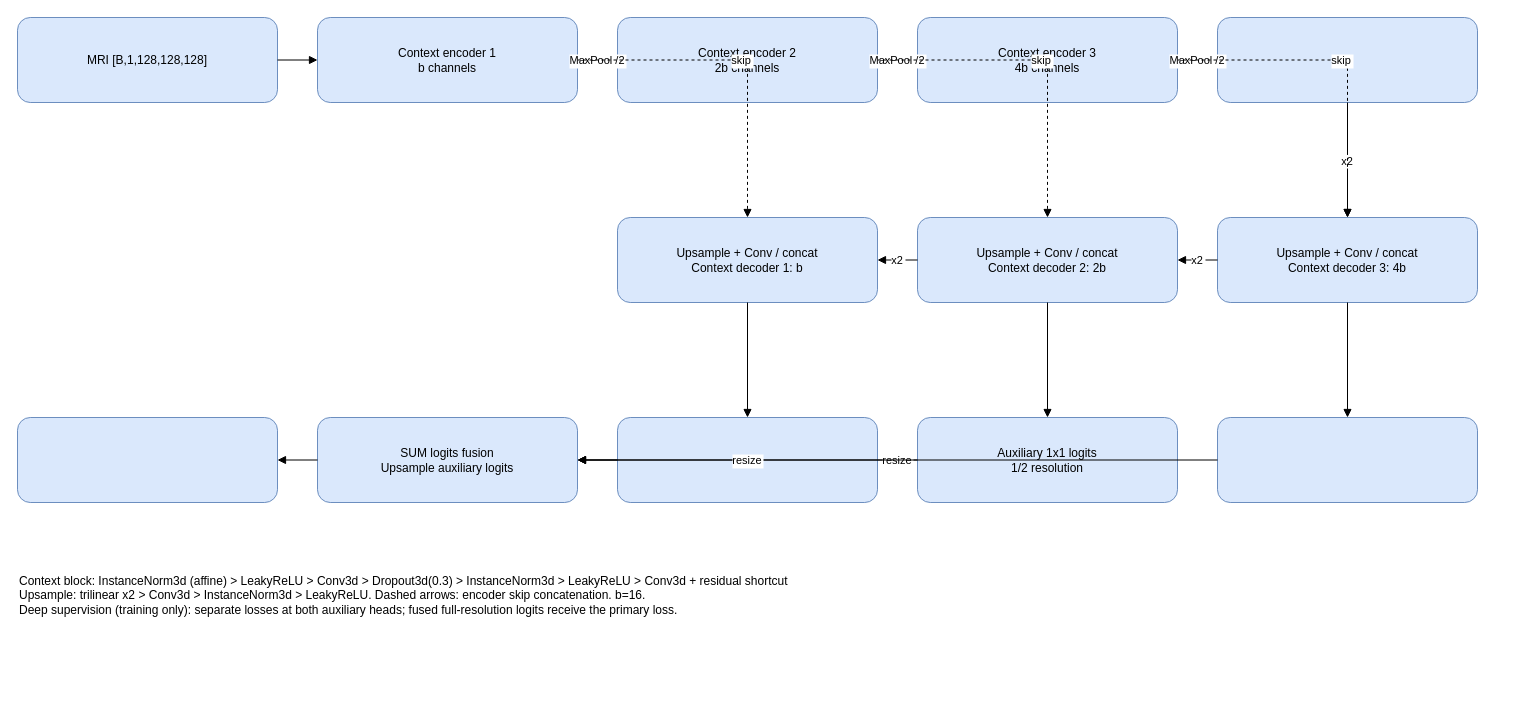
Image size: 1535x705. Some labels were removed from this diagram. The shapes that lost their labels are listed below. From the top down, each one's centre as x and y in pixels, then its label:
(1347,59): Context bottleneck 8b channels
(147,459): 6-class output Train + inference
(747,459): Final 1x1 logits Full resolution
(1347,459): Auxiliary 1x1 logits 1/4 resolution
